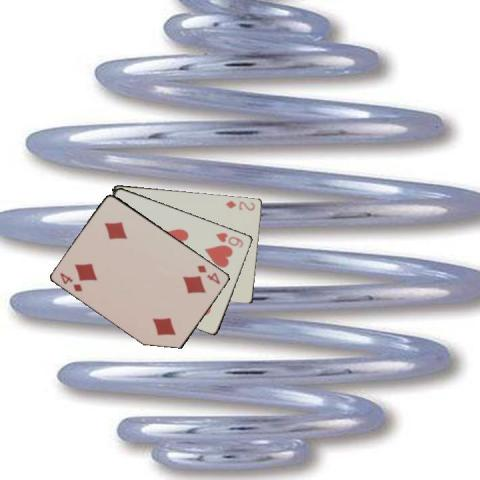2d: (222, 197, 256, 212)
4d: (194, 262, 222, 286), (57, 269, 84, 293)
6h: (213, 229, 245, 249)
